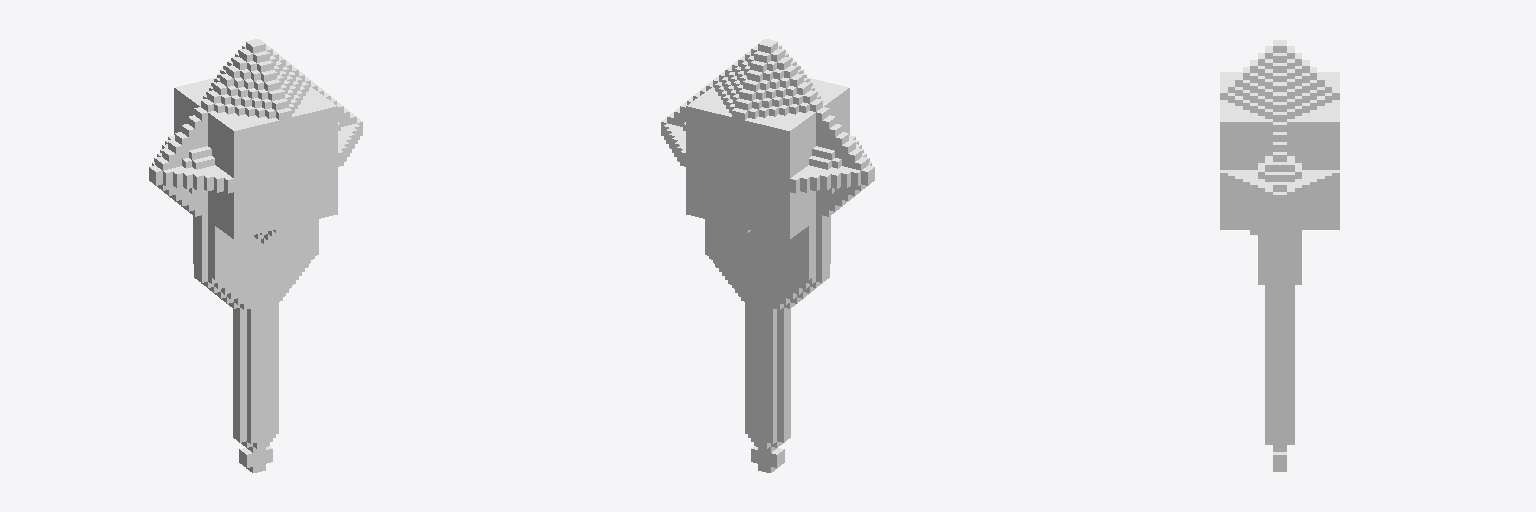
Rendered from HieroPhant.obj.
The picture shows the model from 3 angles: view 1: azimuth 30°, elevation 25°; view 2: azimuth 150°, elevation 25°; view 3: azimuth 270°, elevation 25°; orthographic projection.
Parts seen in each view (by area): view 1: object 1; view 2: object 1; view 3: object 1.
Part boxes in pixels (x1,y1,x2,y2): object 1: (149, 39, 362, 472); object 1: (661, 39, 874, 472); object 1: (1220, 40, 1339, 471).
Bounding box in the file's own units: 3.2 × 6.3 × 1.6.